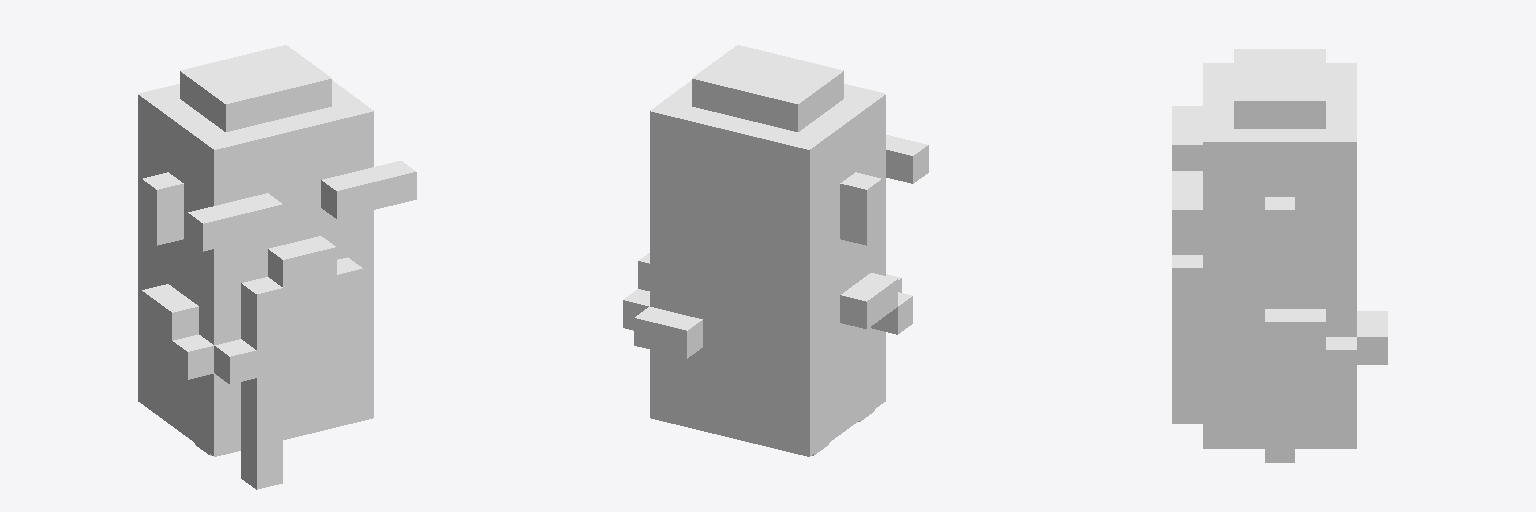
The model's file is chr_oldgreen.obj.
The picture shows the model from 3 angles: view 1: azimuth 30°, elevation 25°; view 2: azimuth 150°, elevation 25°; view 3: azimuth 270°, elevation 25°; orthographic projection.
Parts seen in each view (by area): view 1: chr_oldgreen; view 2: chr_oldgreen; view 3: chr_oldgreen.
Boxes of the visible parts, <box> form: chr_oldgreen: <box>138,45,416,489</box>; chr_oldgreen: <box>623,45,928,456</box>; chr_oldgreen: <box>1172,49,1387,462</box>.
Size of the model in its own units: 8 by 13 by 7.